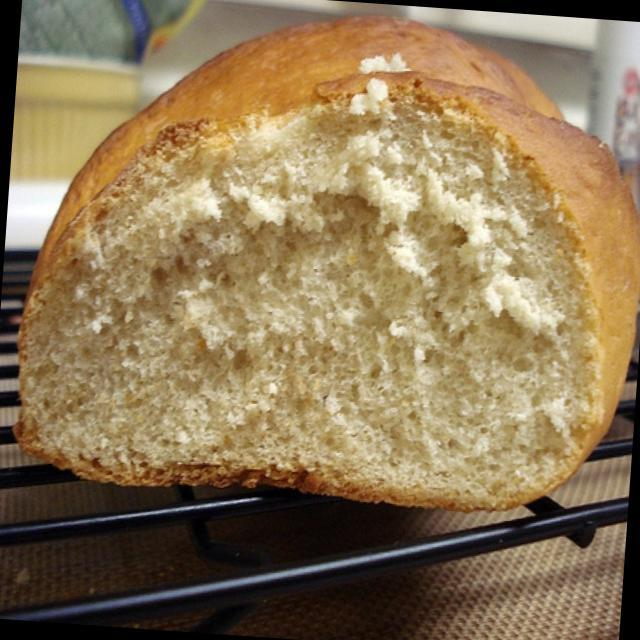Bread: (21, 13, 640, 522)
